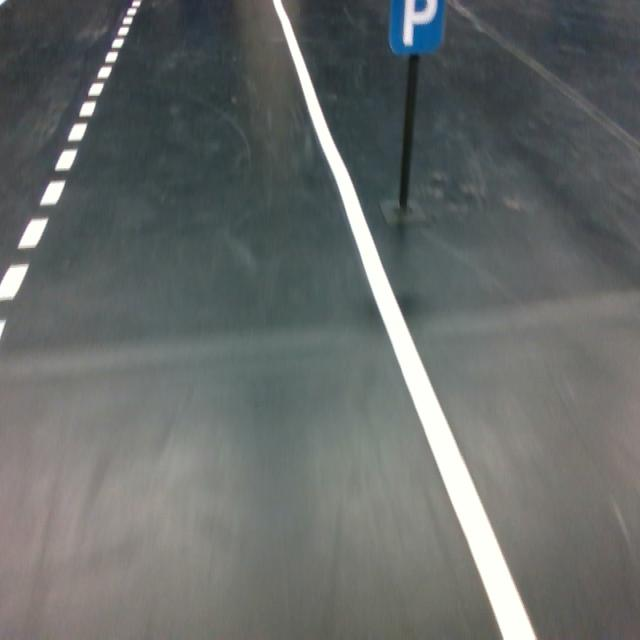parking-sign: (388, 0, 446, 57)
